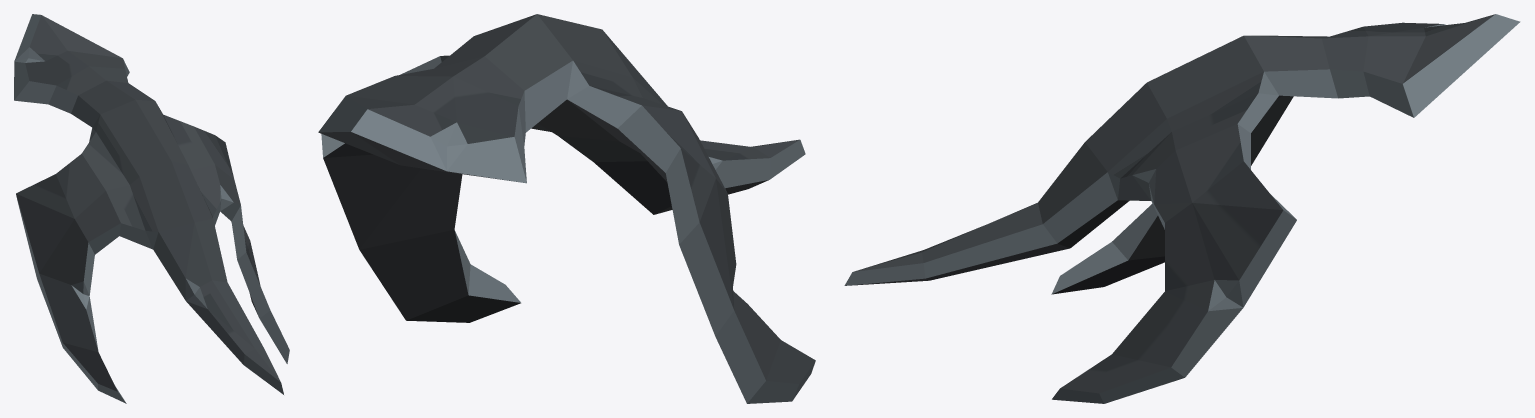
The model's file is SM_Chr_Attach_Helmet_Dark_Small_01.fbx.
3 views of the same model, side by side, from view 1: azimuth 30°, elevation 25°; view 2: azimuth 150°, elevation 25°; view 3: azimuth 270°, elevation 25° (orthographic). The views are drawn at different scales.
Parts seen in each view (by area): view 1: SM_Chr_Attach_Helmet_Dark_Small_01; view 2: SM_Chr_Attach_Helmet_Dark_Small_01; view 3: SM_Chr_Attach_Helmet_Dark_Small_01.
Part boxes in pixels (box(x1,y1,x2,y2)): SM_Chr_Attach_Helmet_Dark_Small_01: box(14, 14, 289, 403); SM_Chr_Attach_Helmet_Dark_Small_01: box(318, 14, 815, 403); SM_Chr_Attach_Helmet_Dark_Small_01: box(844, 14, 1520, 403).
Size of the model in its own units: 18.95 by 21.43 by 39.44.
